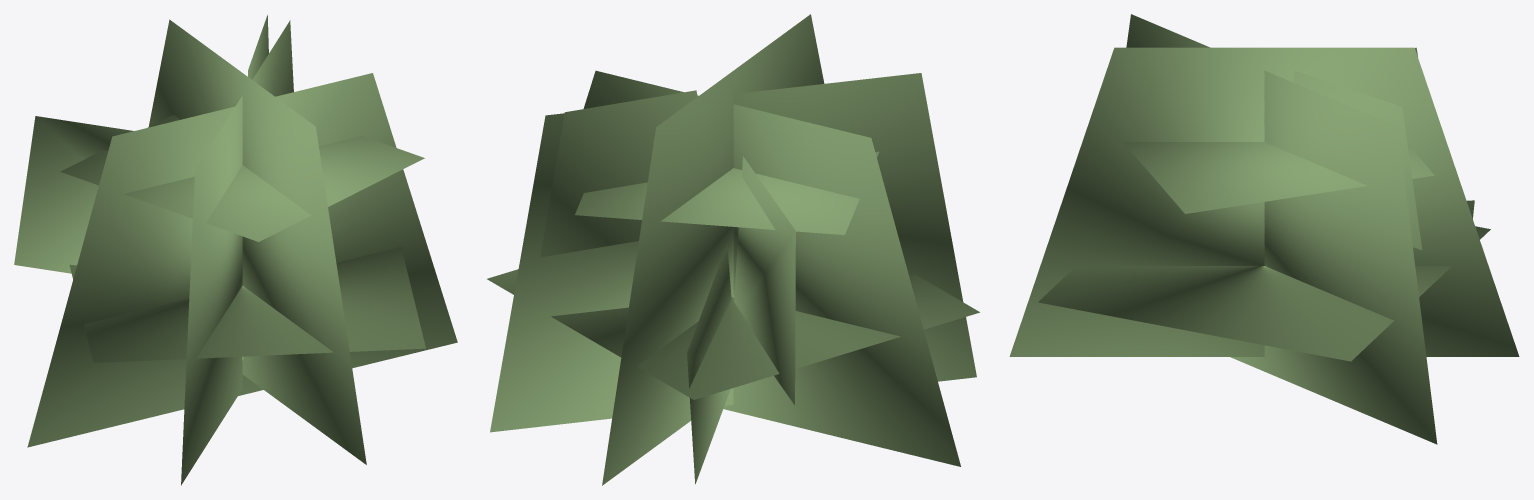
The model's file is oak-canopy-unit.glb.
3 renders of one model, left to right at view 1: azimuth 30°, elevation 25°; view 2: azimuth 150°, elevation 25°; view 3: azimuth 270°, elevation 25°, orthographic. The views are drawn at different scales.
Visible parts, largest first — view 1: Oak-canopy-unitBody; view 2: Oak-canopy-unitBody; view 3: Oak-canopy-unitBody.
Boxes of the visible parts, x1,y1,x2,y2 form: Oak-canopy-unitBody: (14, 15, 457, 485); Oak-canopy-unitBody: (487, 14, 979, 485); Oak-canopy-unitBody: (1009, 14, 1519, 444).
Size of the model in its own units: 4.4 by 3.15 by 4.4.
